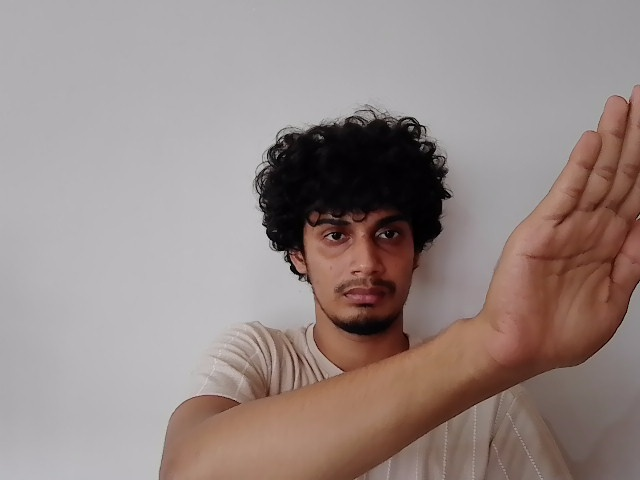hello: (493, 85, 640, 361)
